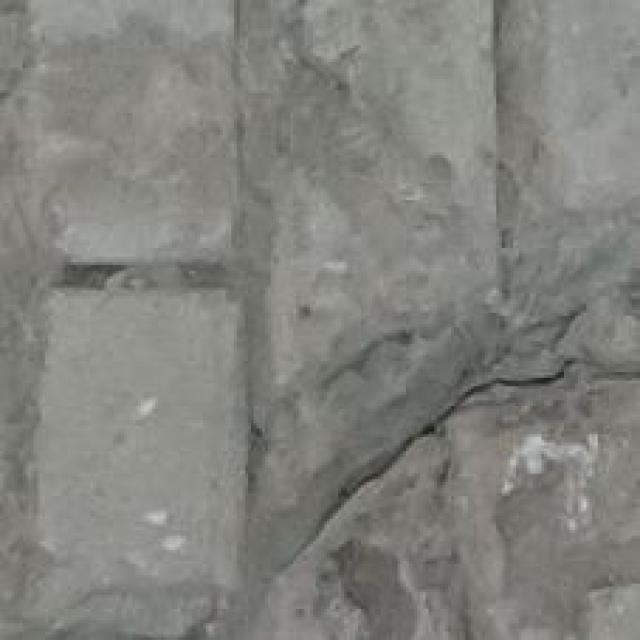Crack: (239, 301, 640, 640)
